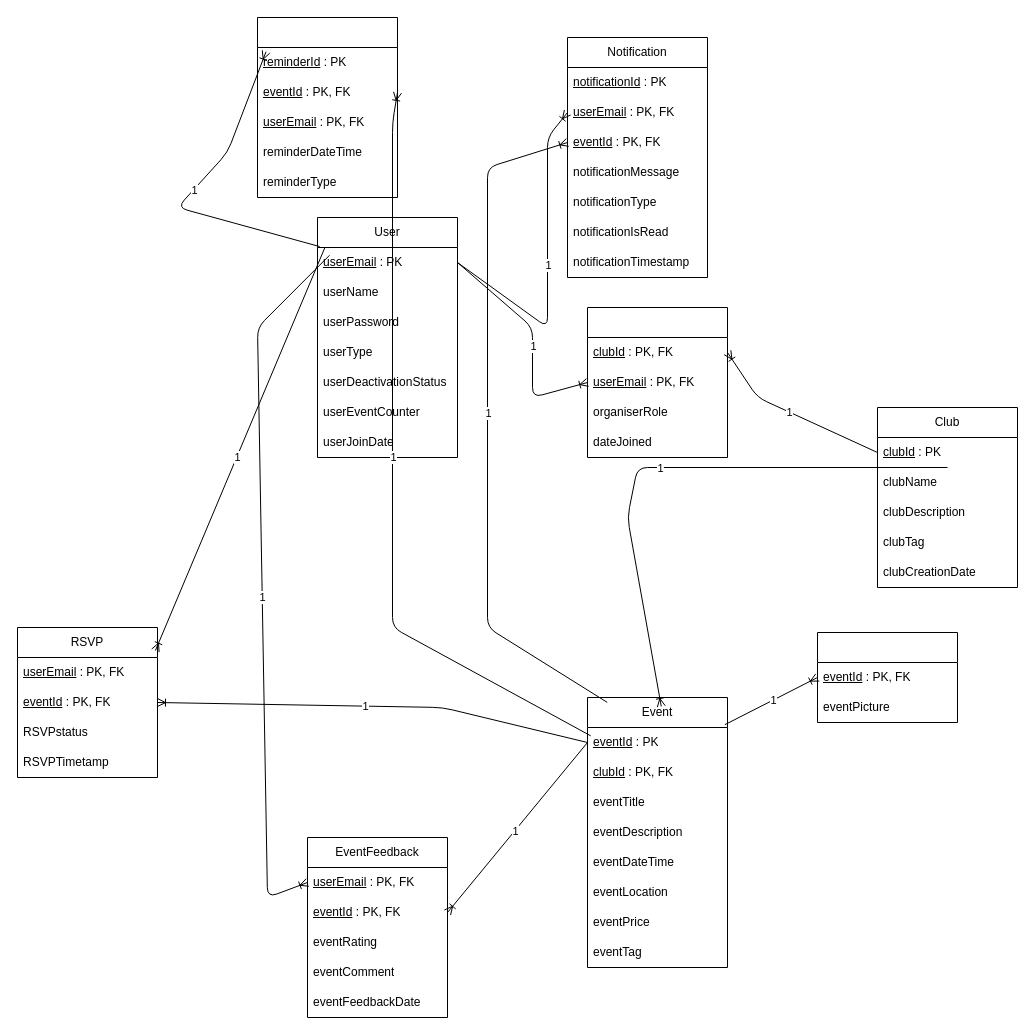
Some shapes in this 1035 by 1035 pixel diagram are drawn without their labels. Here are the shapes that lost their labels. From the top down, the box of each, then its label:
(256, 16, 398, 198): EventReminder
(586, 306, 728, 458): ClubOrganiser
(816, 632, 958, 722): EventGallery
